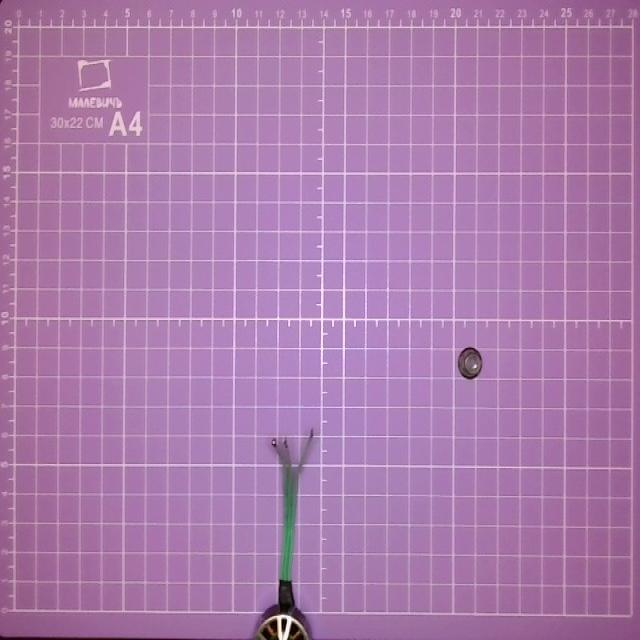motor: (254, 409, 319, 640)
screw_M5: (453, 341, 486, 382)
